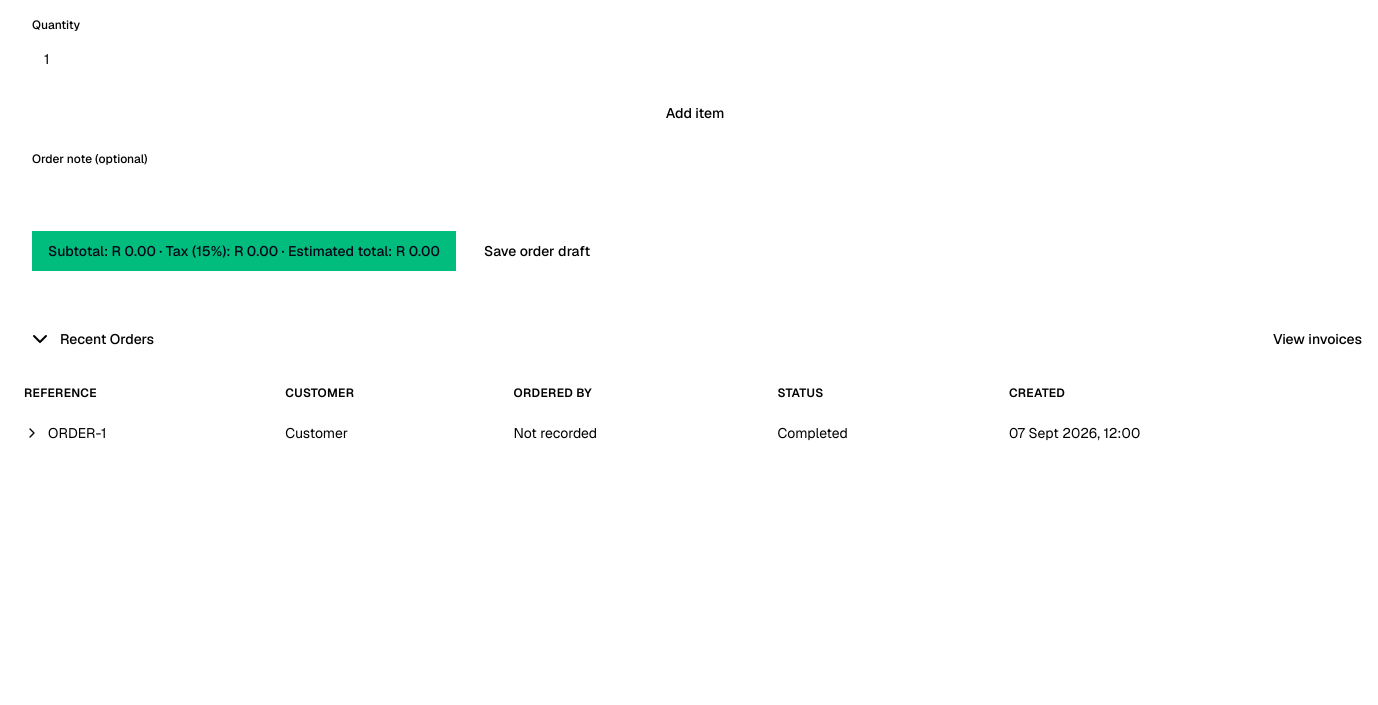
shows final invoice amounts and history link without creation or cancellation
Click the button "ORDER-1": (65,433) x1=24 y1=423 x2=106 y2=443
(page scrolled)
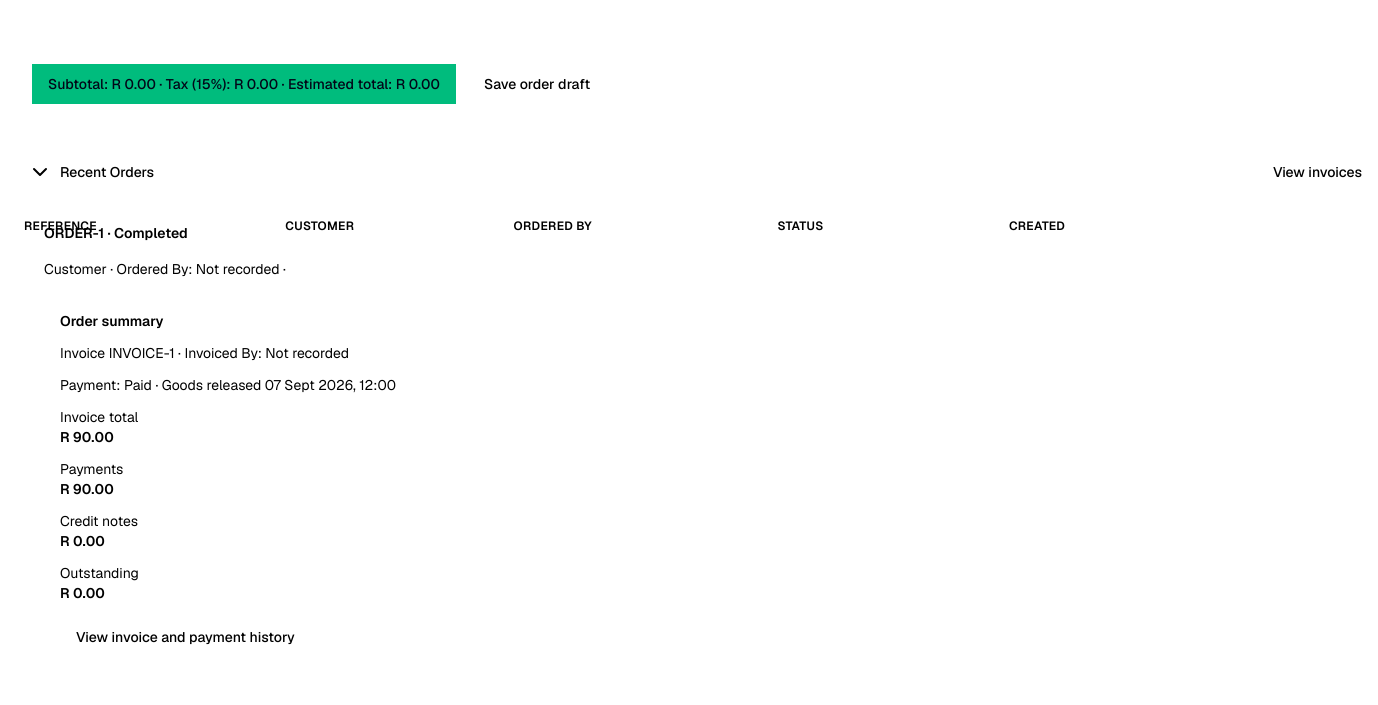
Expected: the element "Order summary" shows "INVOICE-1", x1=109 y1=344 x2=175 y2=362
